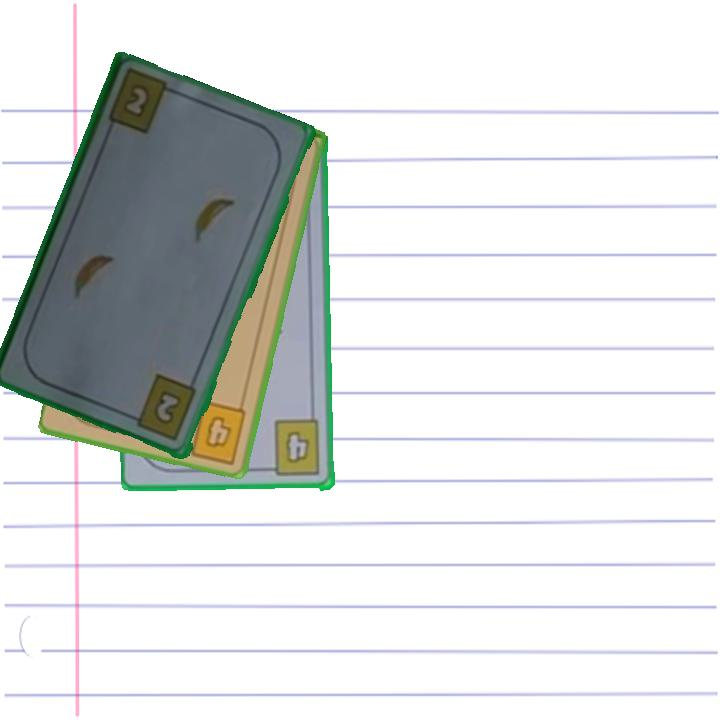2b: (126, 371, 200, 444), (119, 84, 150, 122)
4b: (177, 397, 250, 466), (261, 417, 323, 479)
